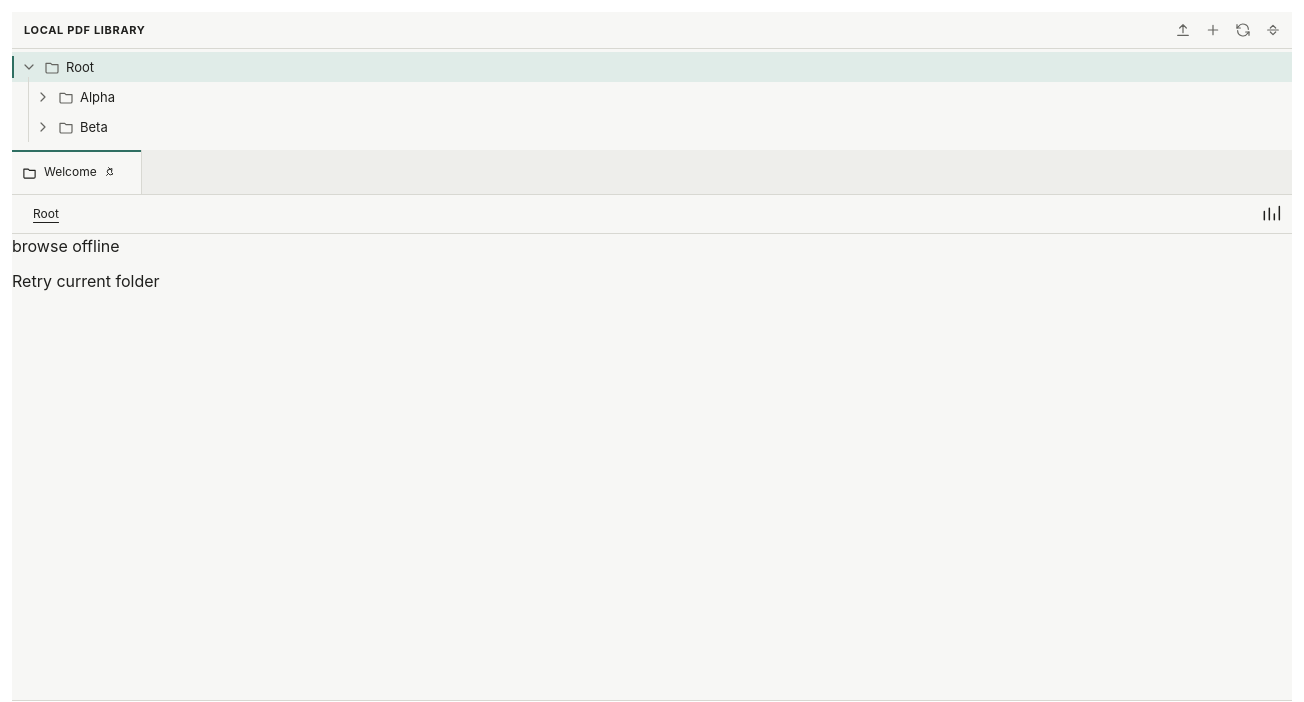
Test: knowledge base workspace › retains the workspace and exposes an actionable retry after an outage
Expected: the message reads "browse offline", [12,236,120,256]
Click the button "Retry current folder": point(86, 282) [12,260,160,304]
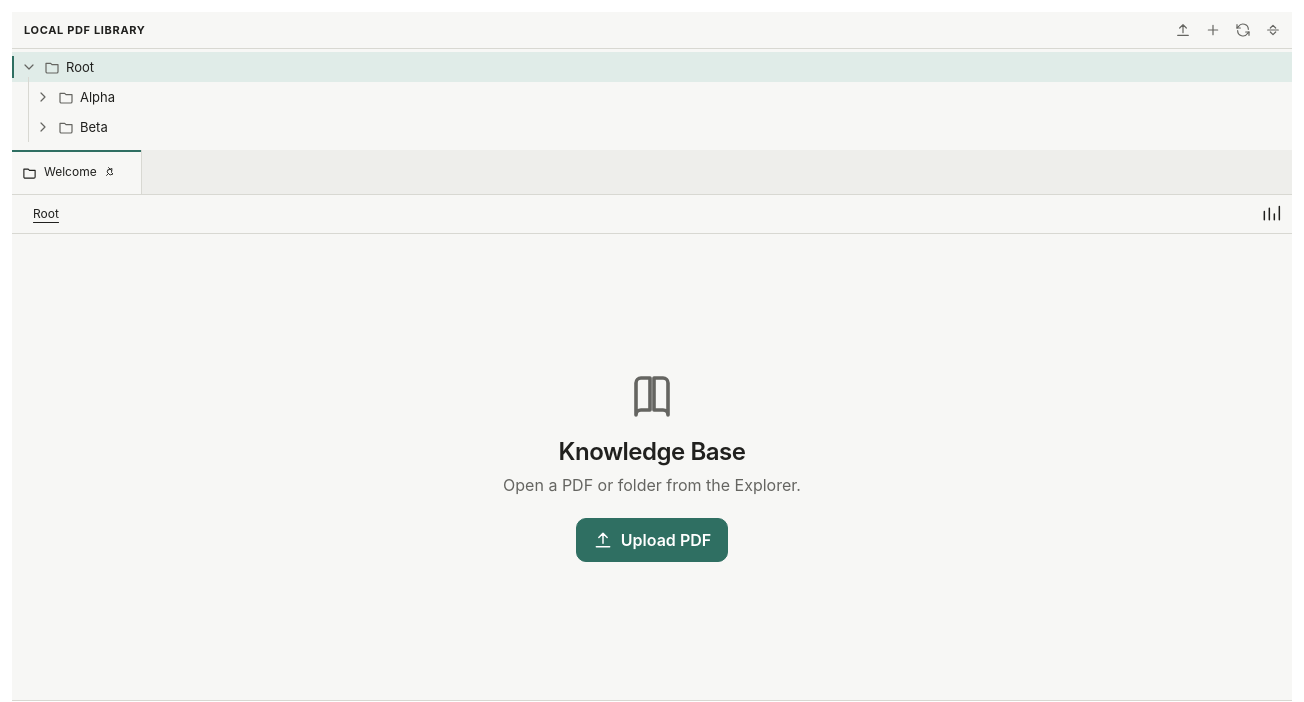
Now the text "browse offline" is gone
Now the heading "Knowledge Base" is shown, box [558,438,745,467]
